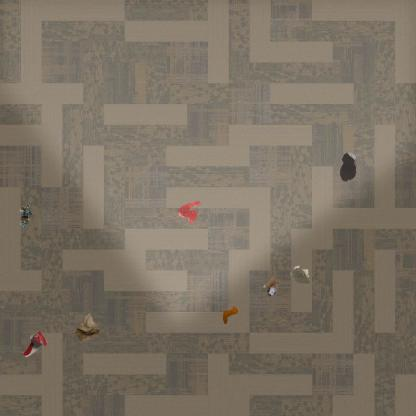dirty: (74, 313, 102, 345), (21, 329, 50, 357), (260, 275, 282, 297), (18, 201, 34, 229), (290, 266, 310, 284), (222, 304, 238, 324)
liquid: (177, 200, 202, 226), (339, 152, 358, 182)
